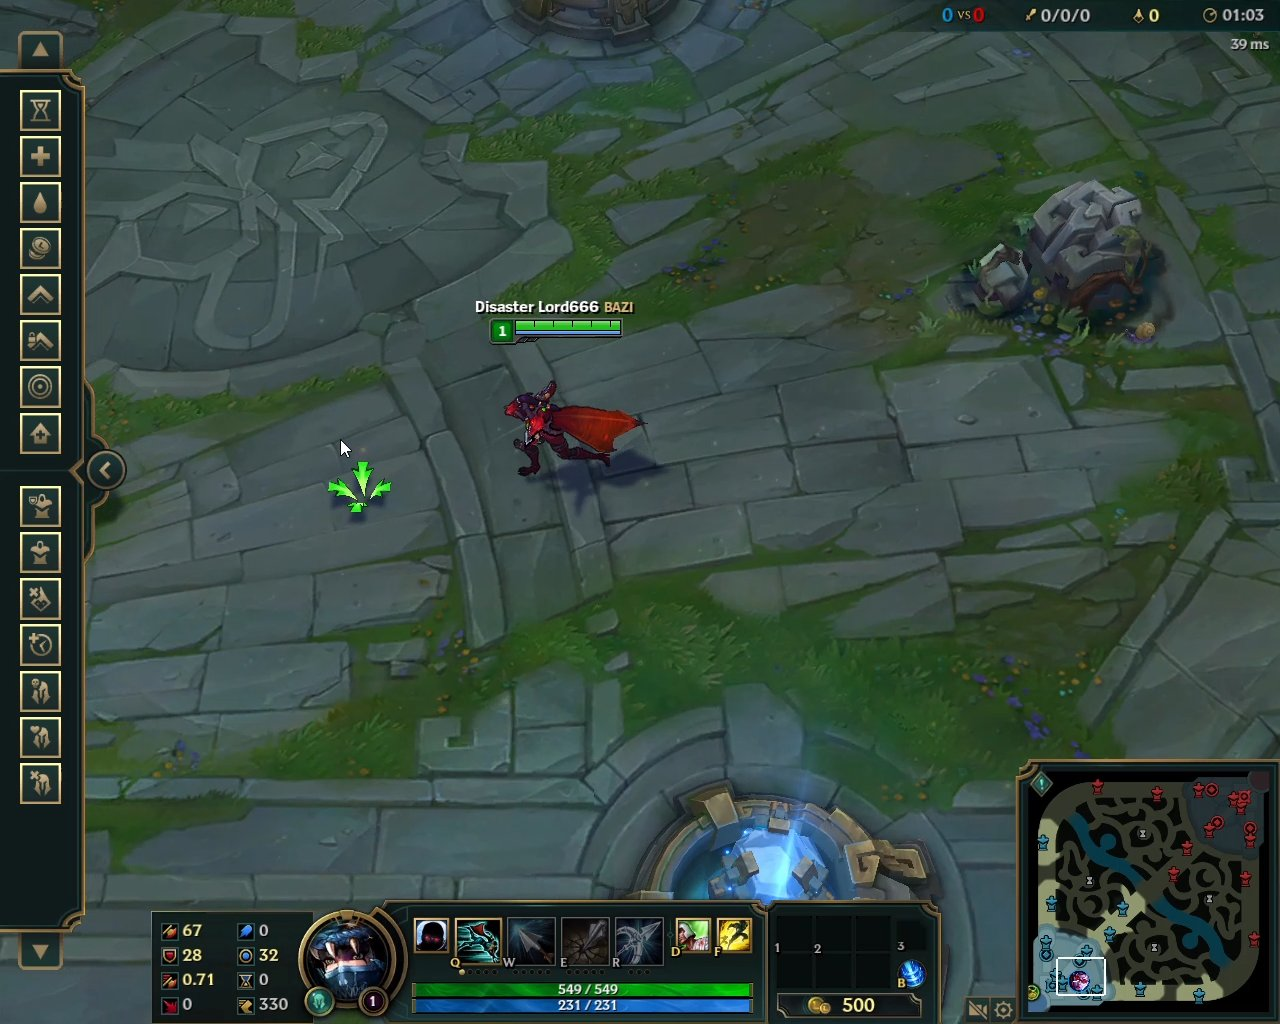Vayne: (499, 364, 656, 481)
